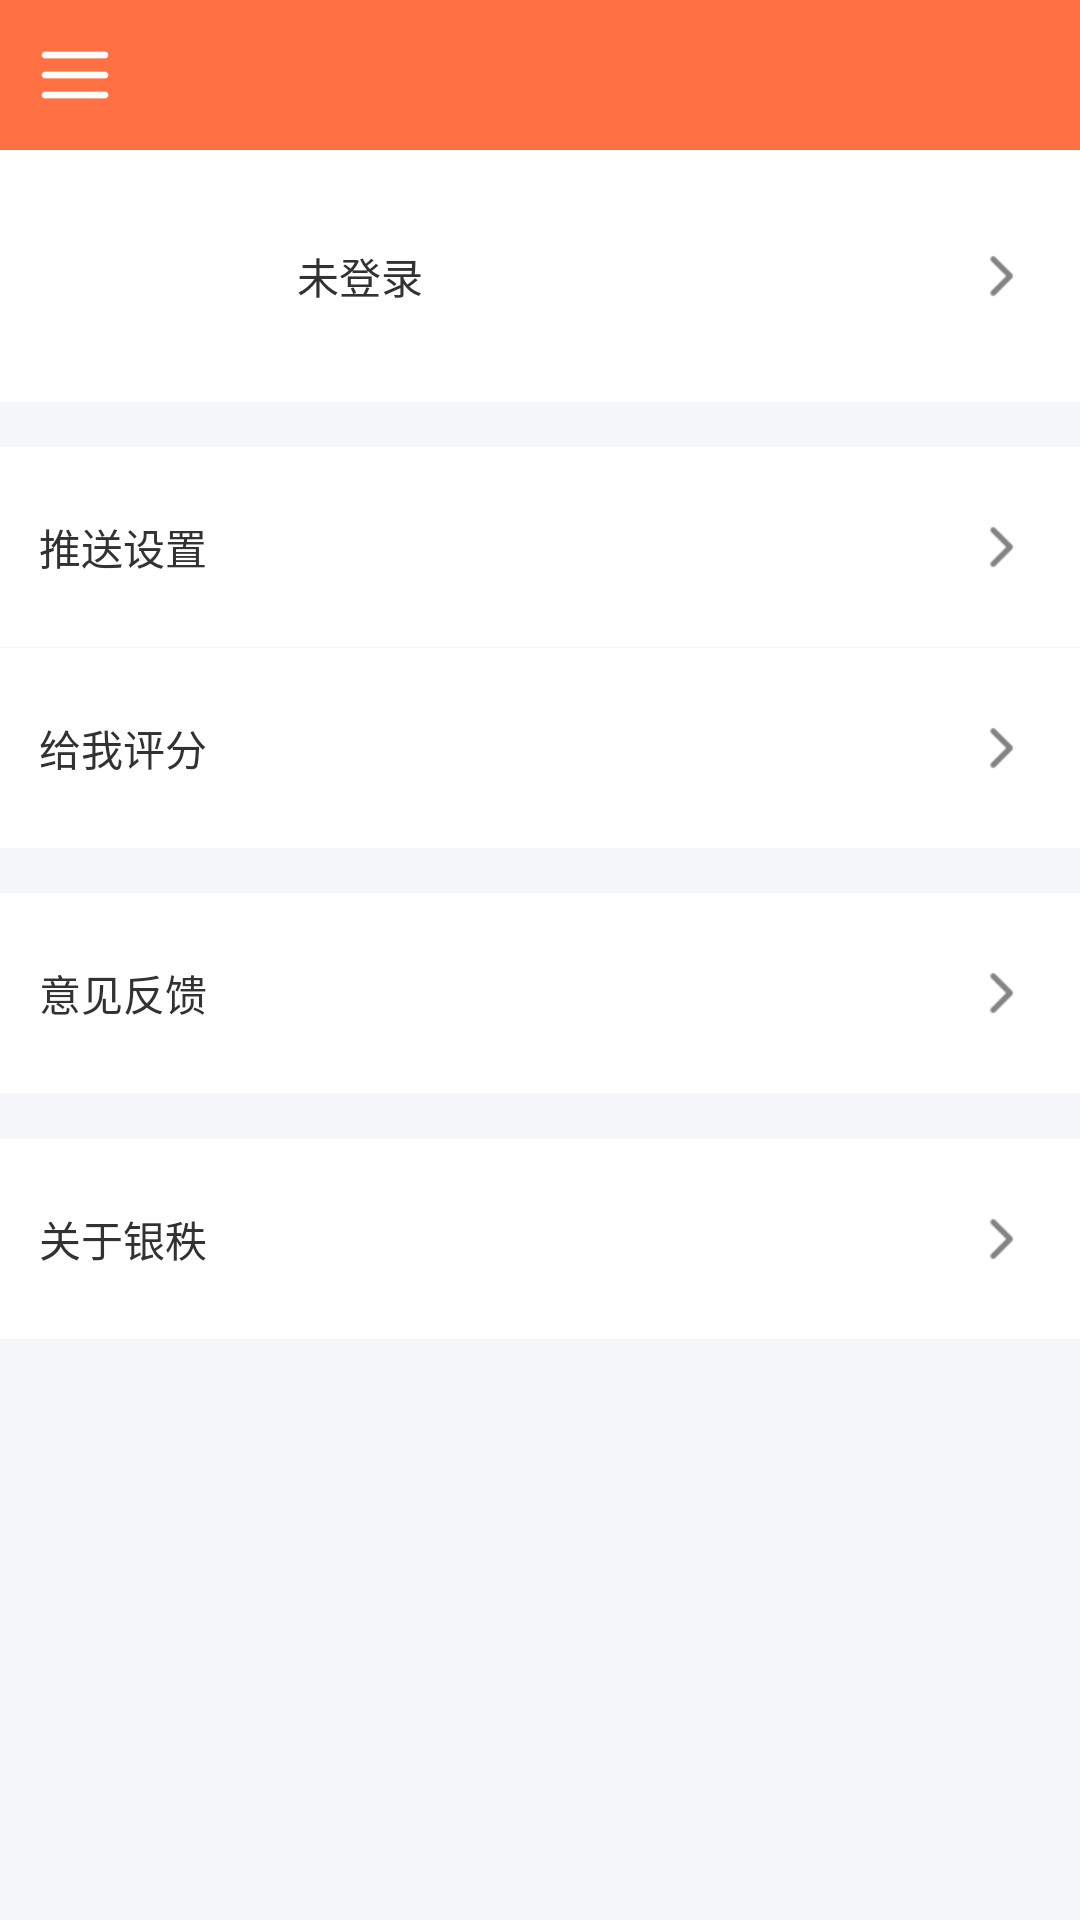

Screen size 1080×1920. Icon name, then its center in pixels as point (x, y):
arrow right: point (1001, 276), point (1001, 547), point (1001, 748), point (1001, 993), point (1001, 1239)
bar: point (75, 75)
